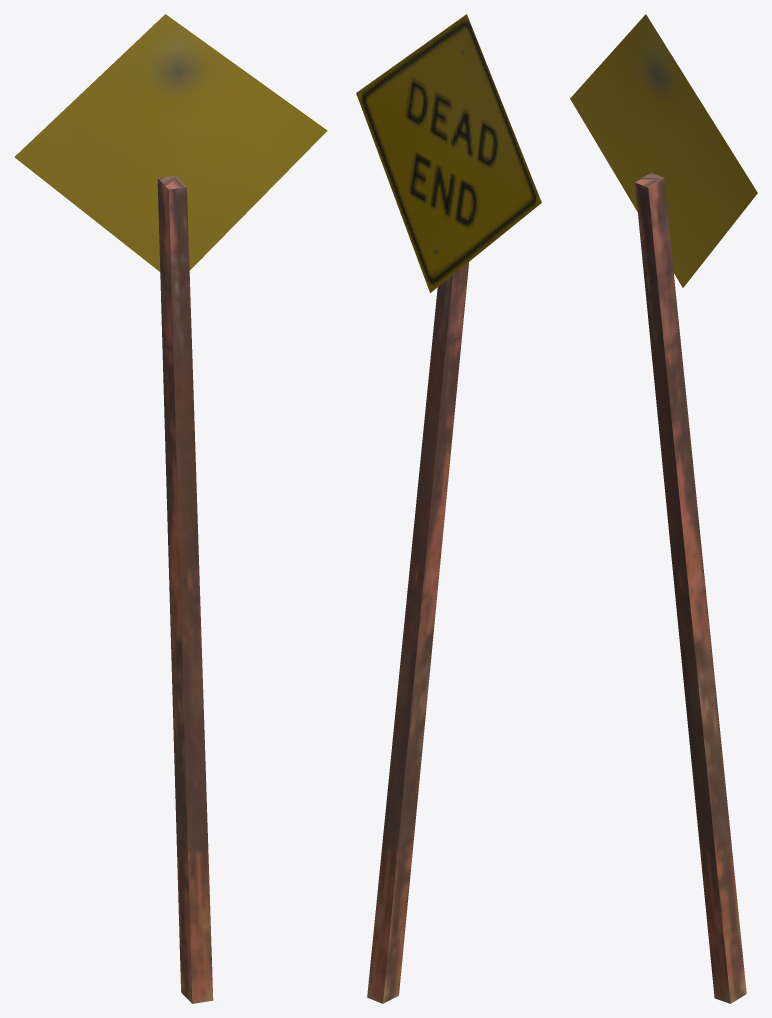
File: sign4.fbx
The picture shows the model from 3 angles, left to right: view 1: azimuth 30°, elevation 25°; view 2: azimuth 150°, elevation 25°; view 3: azimuth 330°, elevation 25°; orthographic projection. The views are drawn at different scales.
Parts seen in each view (by area): view 1: sign04; view 2: sign04; view 3: sign04.
Part boxes in pixels (bbox=[...]): sign04: bbox=[14, 14, 327, 1003]; sign04: bbox=[356, 14, 541, 1003]; sign04: bbox=[570, 14, 757, 1003].
Size of the model in its own units: 70.09 by 269 by 28.7.
1 material, 1 textured.
